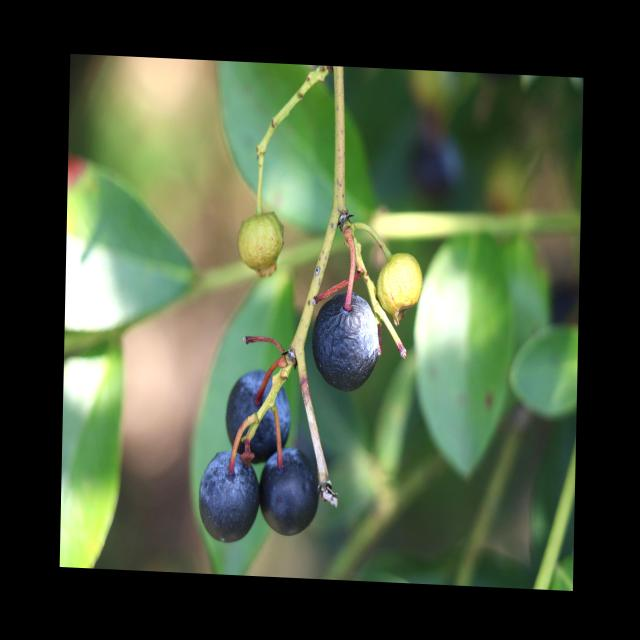blueberry: (222, 363, 294, 456), (312, 292, 380, 385), (198, 446, 259, 544), (258, 448, 321, 536)
blueberry-unripe: (374, 241, 426, 322), (234, 212, 284, 274)
